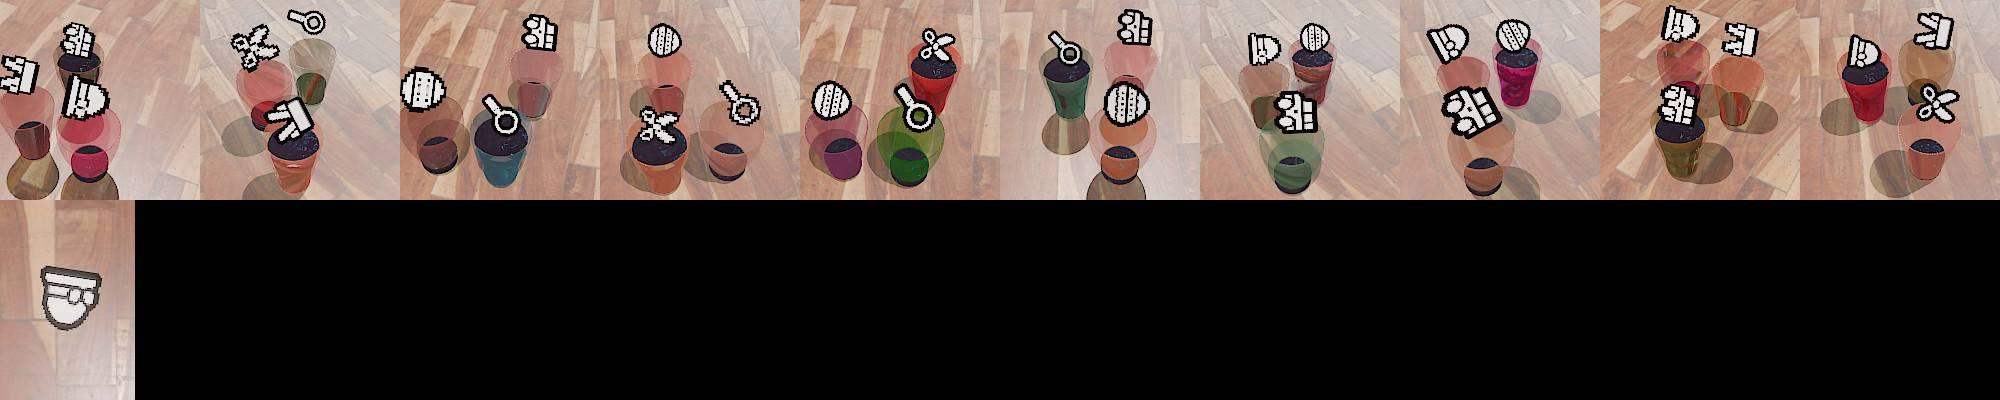icon: (39, 265, 103, 331), (1441, 84, 1503, 137), (264, 95, 318, 144), (230, 23, 281, 72), (60, 73, 109, 121), (1102, 81, 1150, 127), (893, 81, 936, 132), (401, 66, 448, 112), (717, 77, 761, 126), (1274, 88, 1320, 133), (1659, 82, 1701, 129), (481, 92, 522, 137), (637, 105, 681, 145), (1913, 83, 1957, 123), (1426, 24, 1468, 65), (1913, 11, 1954, 52), (0, 54, 40, 95), (812, 79, 852, 120), (645, 21, 684, 62), (521, 13, 560, 53), (1116, 8, 1154, 47), (1662, 4, 1699, 44), (1722, 21, 1759, 60), (918, 27, 957, 62), (1495, 18, 1532, 53), (1048, 30, 1083, 66), (61, 22, 96, 58), (1248, 30, 1282, 67), (1847, 34, 1880, 71), (287, 8, 326, 36), (1298, 22, 1331, 54)
